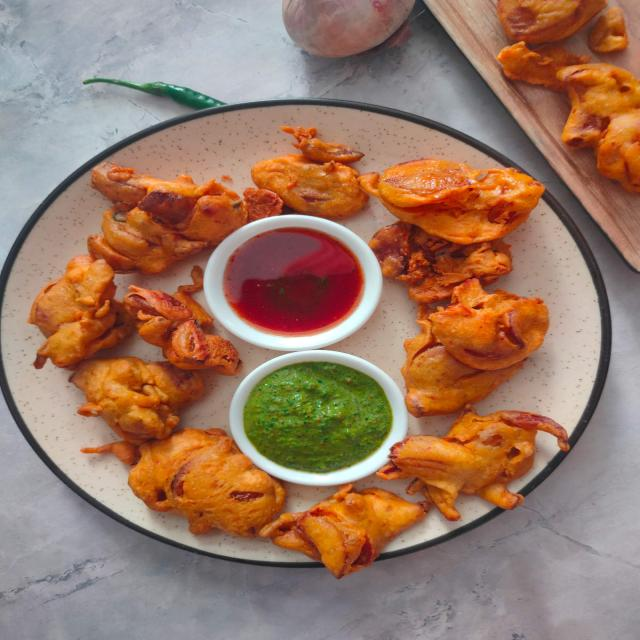BAJI: (358, 153, 561, 293), (375, 404, 581, 532), (76, 423, 292, 542), (406, 281, 558, 409), (85, 172, 294, 264), (261, 487, 440, 587), (108, 285, 255, 390), (66, 351, 220, 447), (27, 245, 137, 372), (246, 123, 382, 212)
